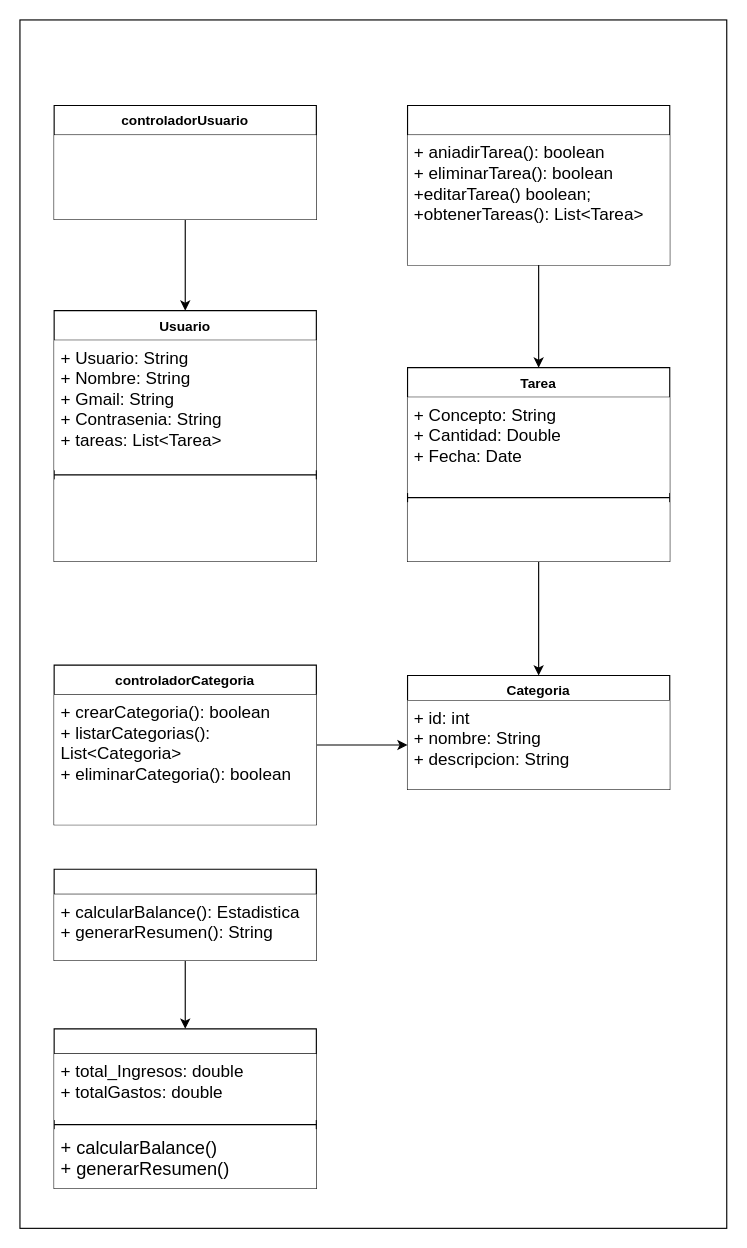
Some shapes in this 747 by 1248 pixel diagram are drawn without their labels. Here are the shapes that lost their labels. From the top down, the box of each, then its label:
(54, 135, 316, 219): + registrarUsuario(): boolean + login(): boolean + modificarPerfil(): void
(406, 104, 670, 265): controladorTarea
(54, 479, 316, 561): + registrar(): + iniciarSesion(): + configurarPerfil():
(407, 502, 669, 561): + marcarCompletada () + filtrarPorCategoria()
(53, 868, 316, 960): ControladorEstadistica
(53, 1028, 316, 1188): Estadistica
